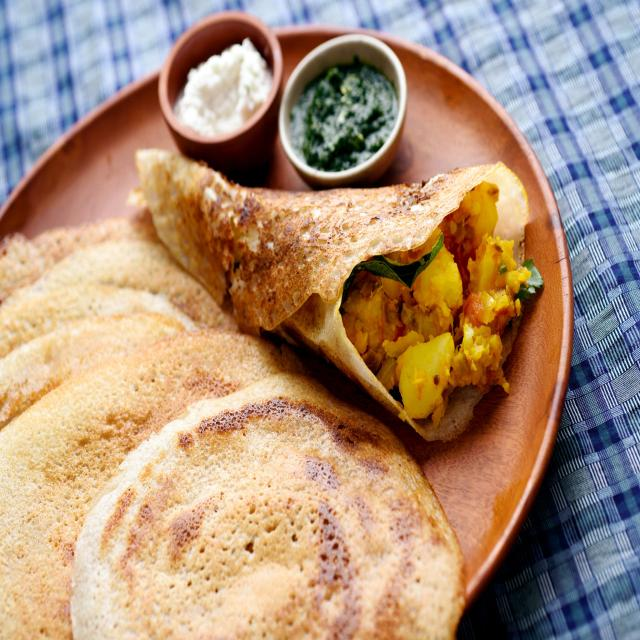DOSA: (133, 149, 530, 434)
